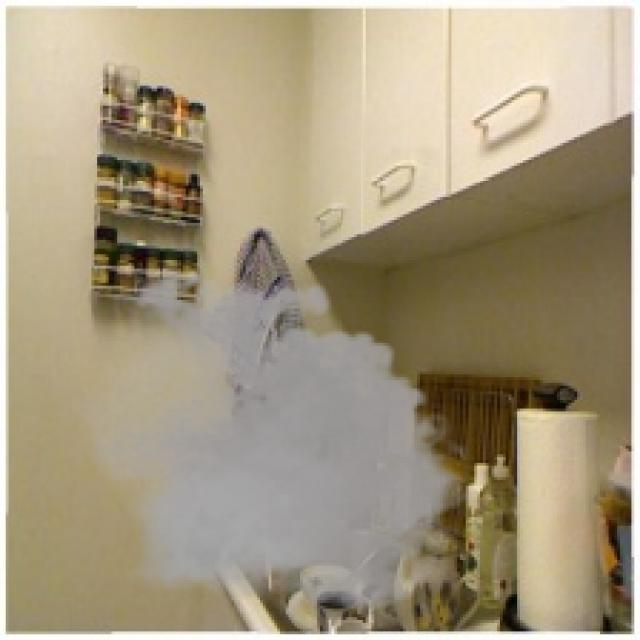smoke: (69, 260, 480, 623)
